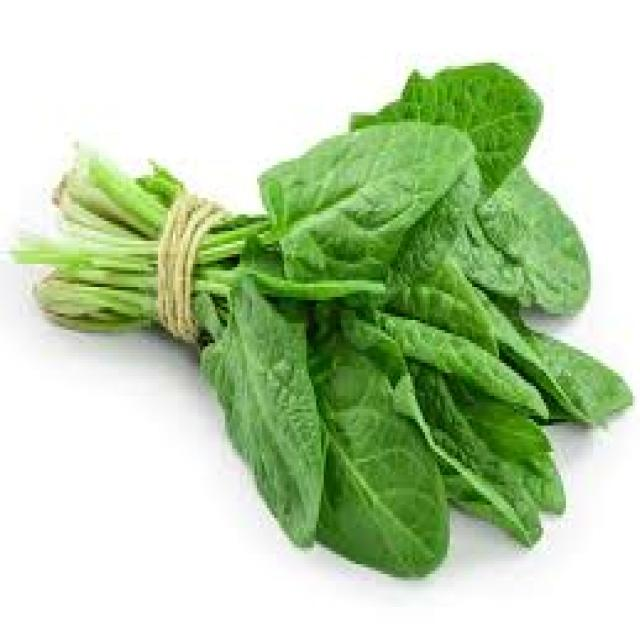spinach: (7, 42, 640, 591)
